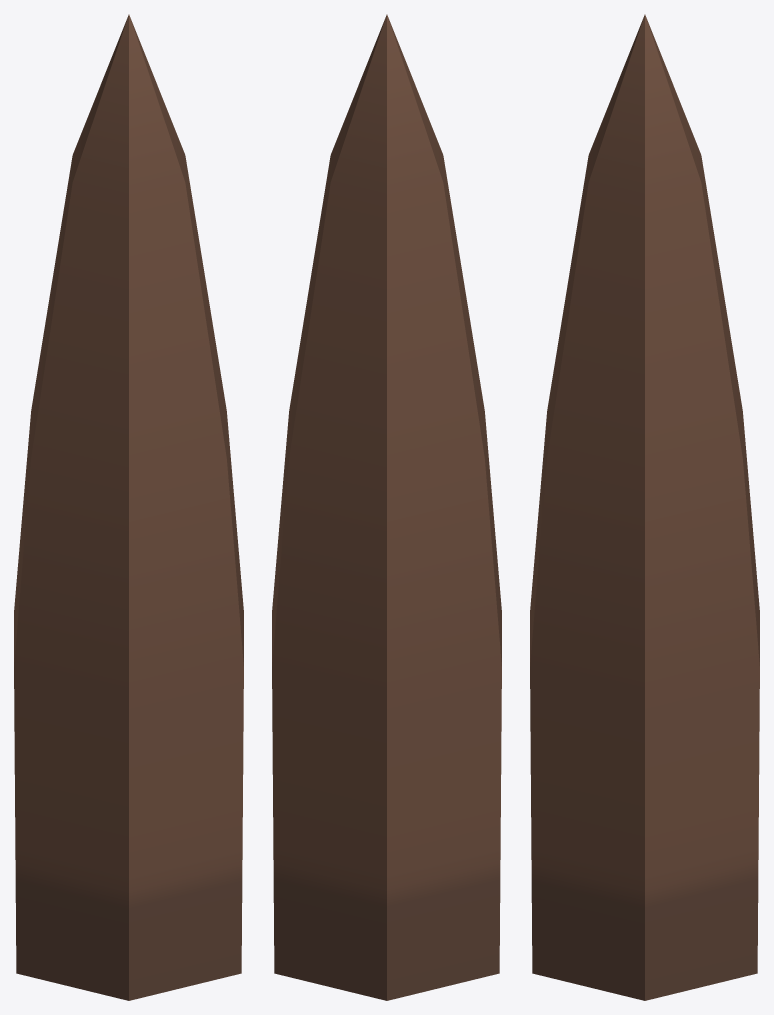
The model's file is SM_Wep_Bullet_01.fbx.
3 renders of one model, left to right at view 1: azimuth 30°, elevation 25°; view 2: azimuth 150°, elevation 25°; view 3: azimuth 270°, elevation 25°, orthographic.
Visible parts, largest first — view 1: SM_Wep_Bullet_01; view 2: SM_Wep_Bullet_01; view 3: SM_Wep_Bullet_01.
Part boxes in pixels (<box>): SM_Wep_Bullet_01: <box>14,14,243,1000</box>; SM_Wep_Bullet_01: <box>272,14,501,1000</box>; SM_Wep_Bullet_01: <box>530,14,759,1000</box>.
Size of the model in its own units: 1.22 by 4.74 by 1.06.
